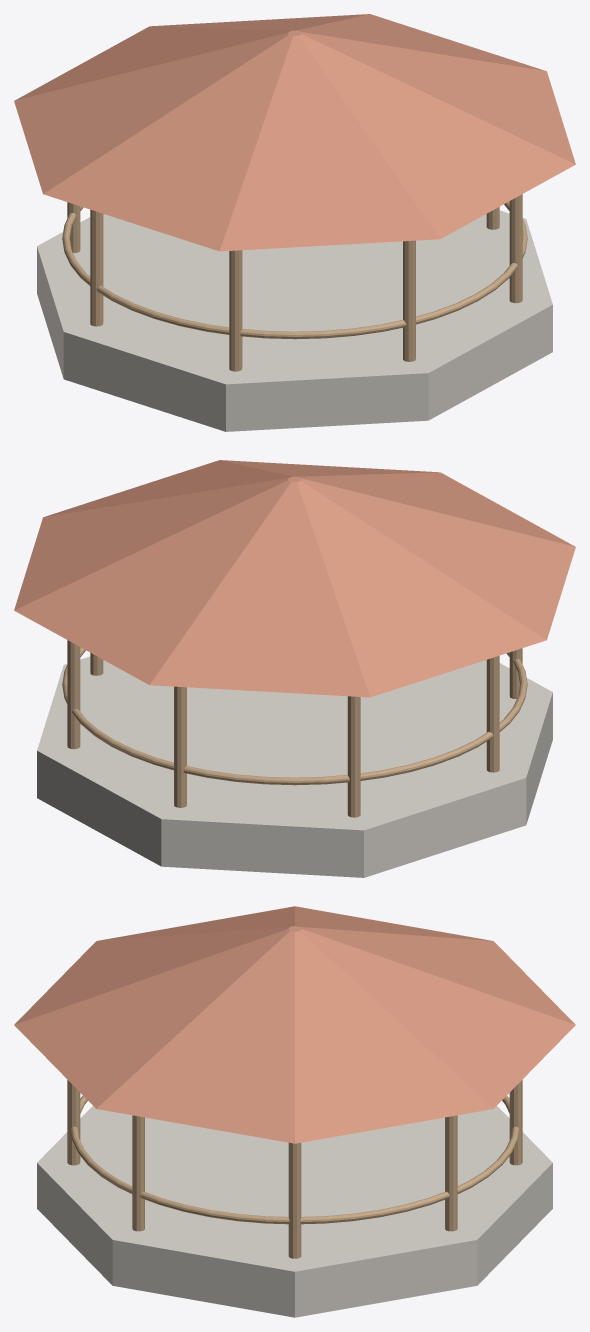
The model's file is PuntaSalinas_Glorieta.fbx.
3 renders of one model, top to bottom at view 1: azimuth 30°, elevation 25°; view 2: azimuth 150°, elevation 25°; view 3: azimuth 270°, elevation 25°, orthographic. The views are drawn at different scales.
Parts seen in each view (by area): view 1: Cone, Cylinder, Torus, Cylinder.006, Cylinder.005, Cylinder.007, Cylinder.008; view 2: Cone, Cylinder, Torus, Cylinder.004, Cylinder.003, Cylinder.005, Cylinder.002; view 3: Cone, Cylinder, Torus, Cylinder.001, Cylinder.002, Cylinder.008, Cylinder.003, Cylinder.007.
Part boxes in pixels (x1,y1,x2,y2): Cone: [14, 14, 575, 251]; Cylinder: [37, 210, 552, 431]; Torus: [62, 201, 527, 339]; Cylinder.006: [229, 250, 242, 371]; Cylinder.005: [90, 209, 103, 326]; Cylinder.007: [403, 240, 415, 361]; Cylinder.008: [509, 194, 522, 303]; Cone: [14, 460, 575, 697]; Cylinder: [37, 656, 552, 877]; Torus: [62, 647, 527, 785]; Cylinder.004: [347, 696, 360, 817]; Cylinder.003: [174, 686, 186, 807]; Cylinder.005: [486, 655, 499, 772]; Cylinder.002: [67, 640, 80, 749]; Cone: [14, 906, 575, 1143]; Cylinder: [37, 1106, 552, 1317]; Torus: [70, 1096, 519, 1224]; Cylinder.001: [288, 1142, 301, 1258]; Cylinder.002: [445, 1115, 457, 1231]; Cylinder.008: [132, 1115, 144, 1231]; Cylinder.003: [509, 1080, 522, 1165]; Cylinder.007: [67, 1080, 80, 1165].
Size of the model in its own units: 12.2 by 6.7 by 12.2.
